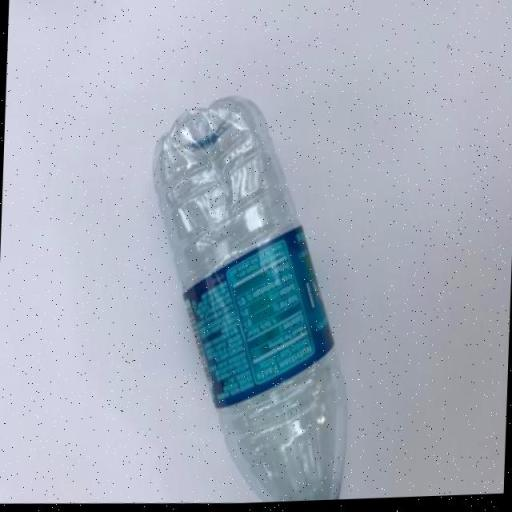plastic: (138, 87, 360, 508)
